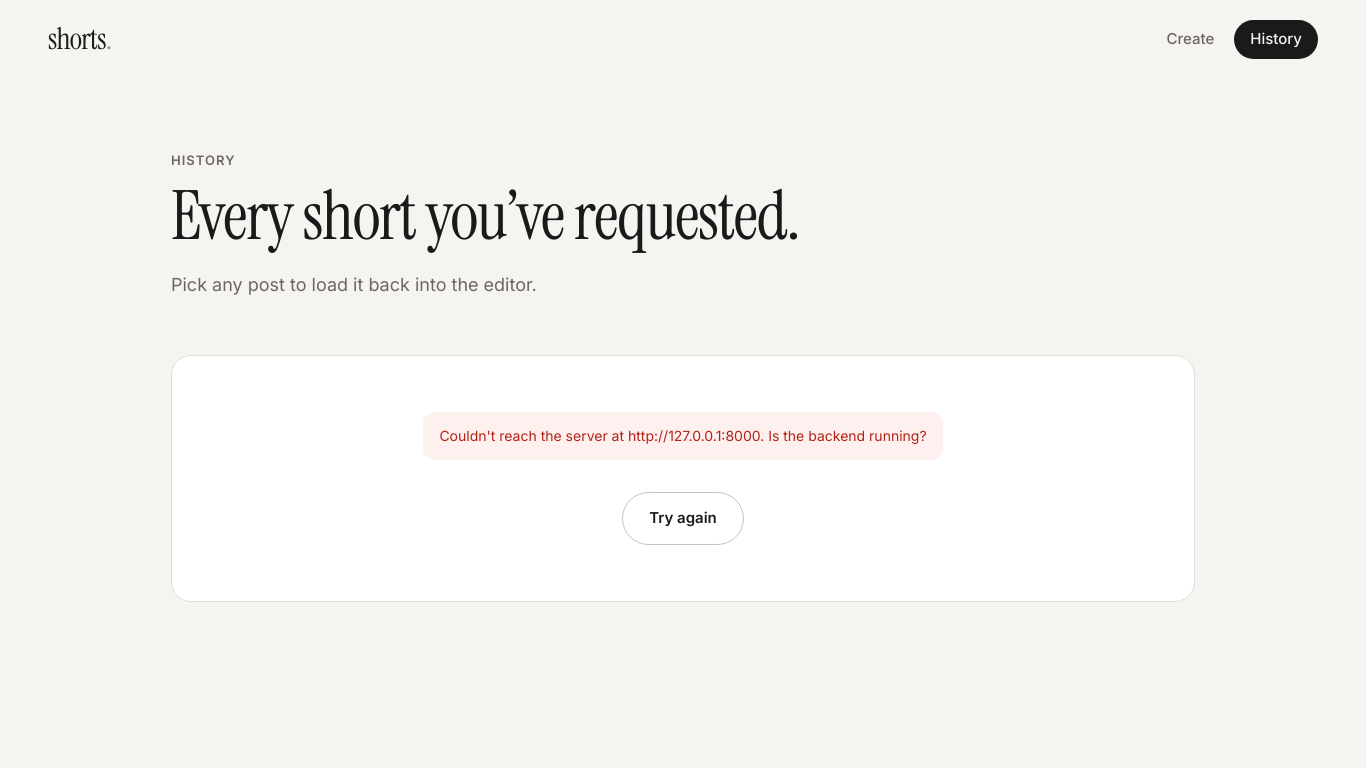
history page › shows errors and retries
Expected: the message shows "Is the backend running", [439, 427, 927, 444]
Click the button "Try again": (683, 519) [622, 492, 744, 545]
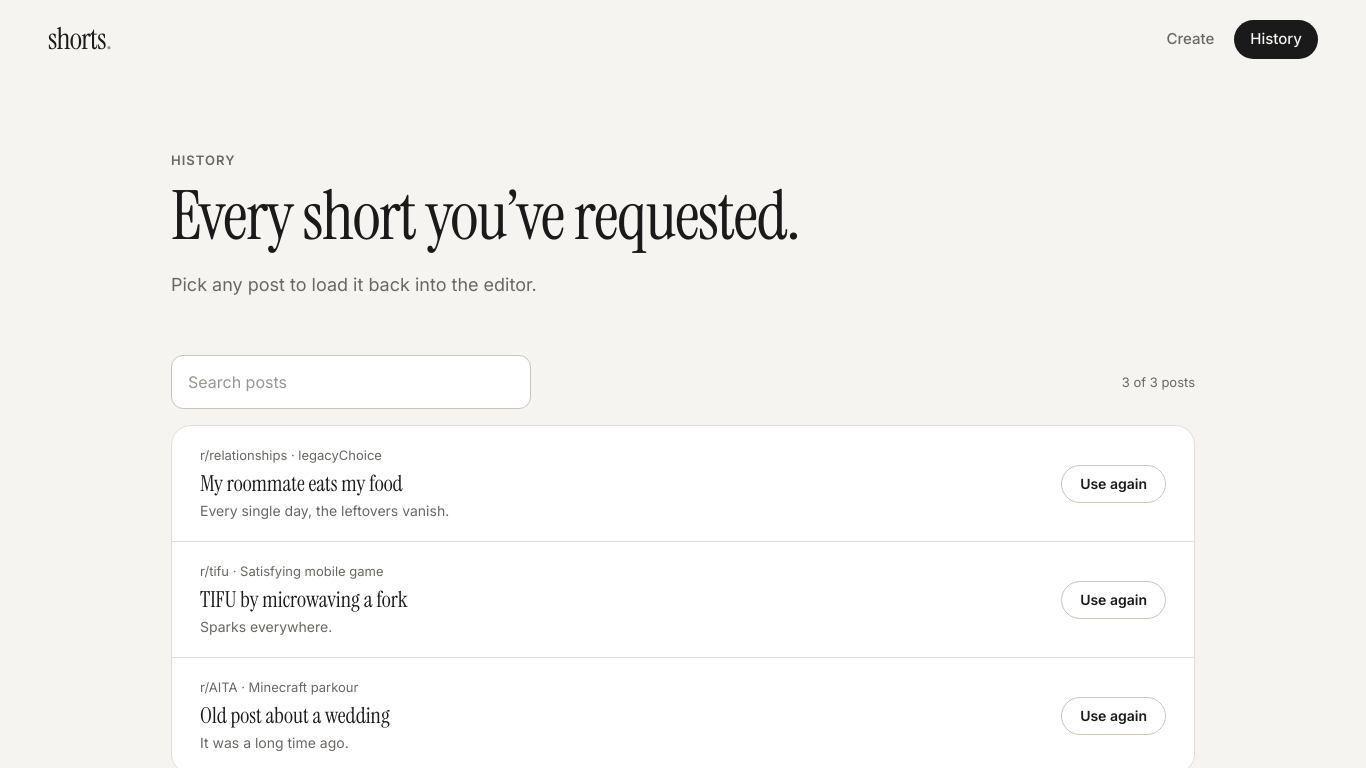
Result: the heading "TIFU by microwaving a fork" is shown at [200, 585, 408, 614]
